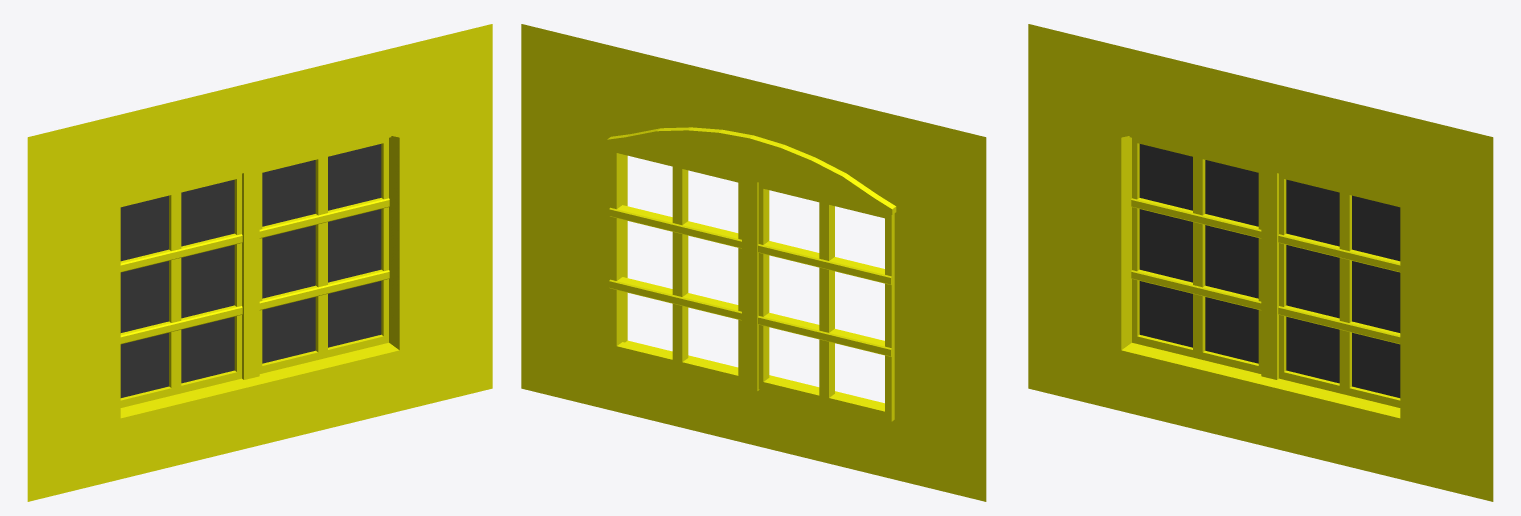
Rendered from brick-window-curveddouble.glb.
3 renders of one model, left to right at view 1: azimuth 30°, elevation 25°; view 2: azimuth 150°, elevation 25°; view 3: azimuth 330°, elevation 25°, orthographic.
Visible parts, largest first — view 1: Brick_Window_CurvedDouble; view 2: Brick_Window_CurvedDouble; view 3: Brick_Window_CurvedDouble.
Boxes of the visible parts, x1=… form: Brick_Window_CurvedDouble: x1=27, y1=24, x2=492, y2=501; Brick_Window_CurvedDouble: x1=521, y1=24, x2=986, y2=501; Brick_Window_CurvedDouble: x1=1028, y1=24, x2=1493, y2=501.
Bounding box in the file's own units: 4 × 3 × 0.2605.
5 materials, 3 textured.
